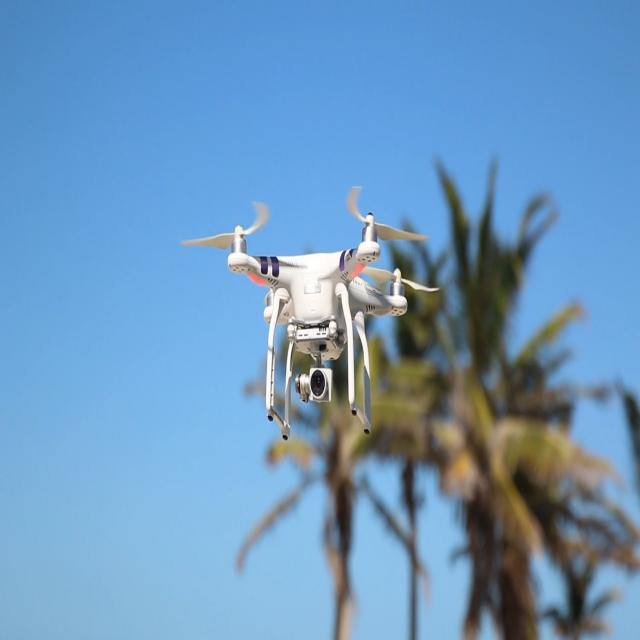Drone: (169, 177, 432, 446)
